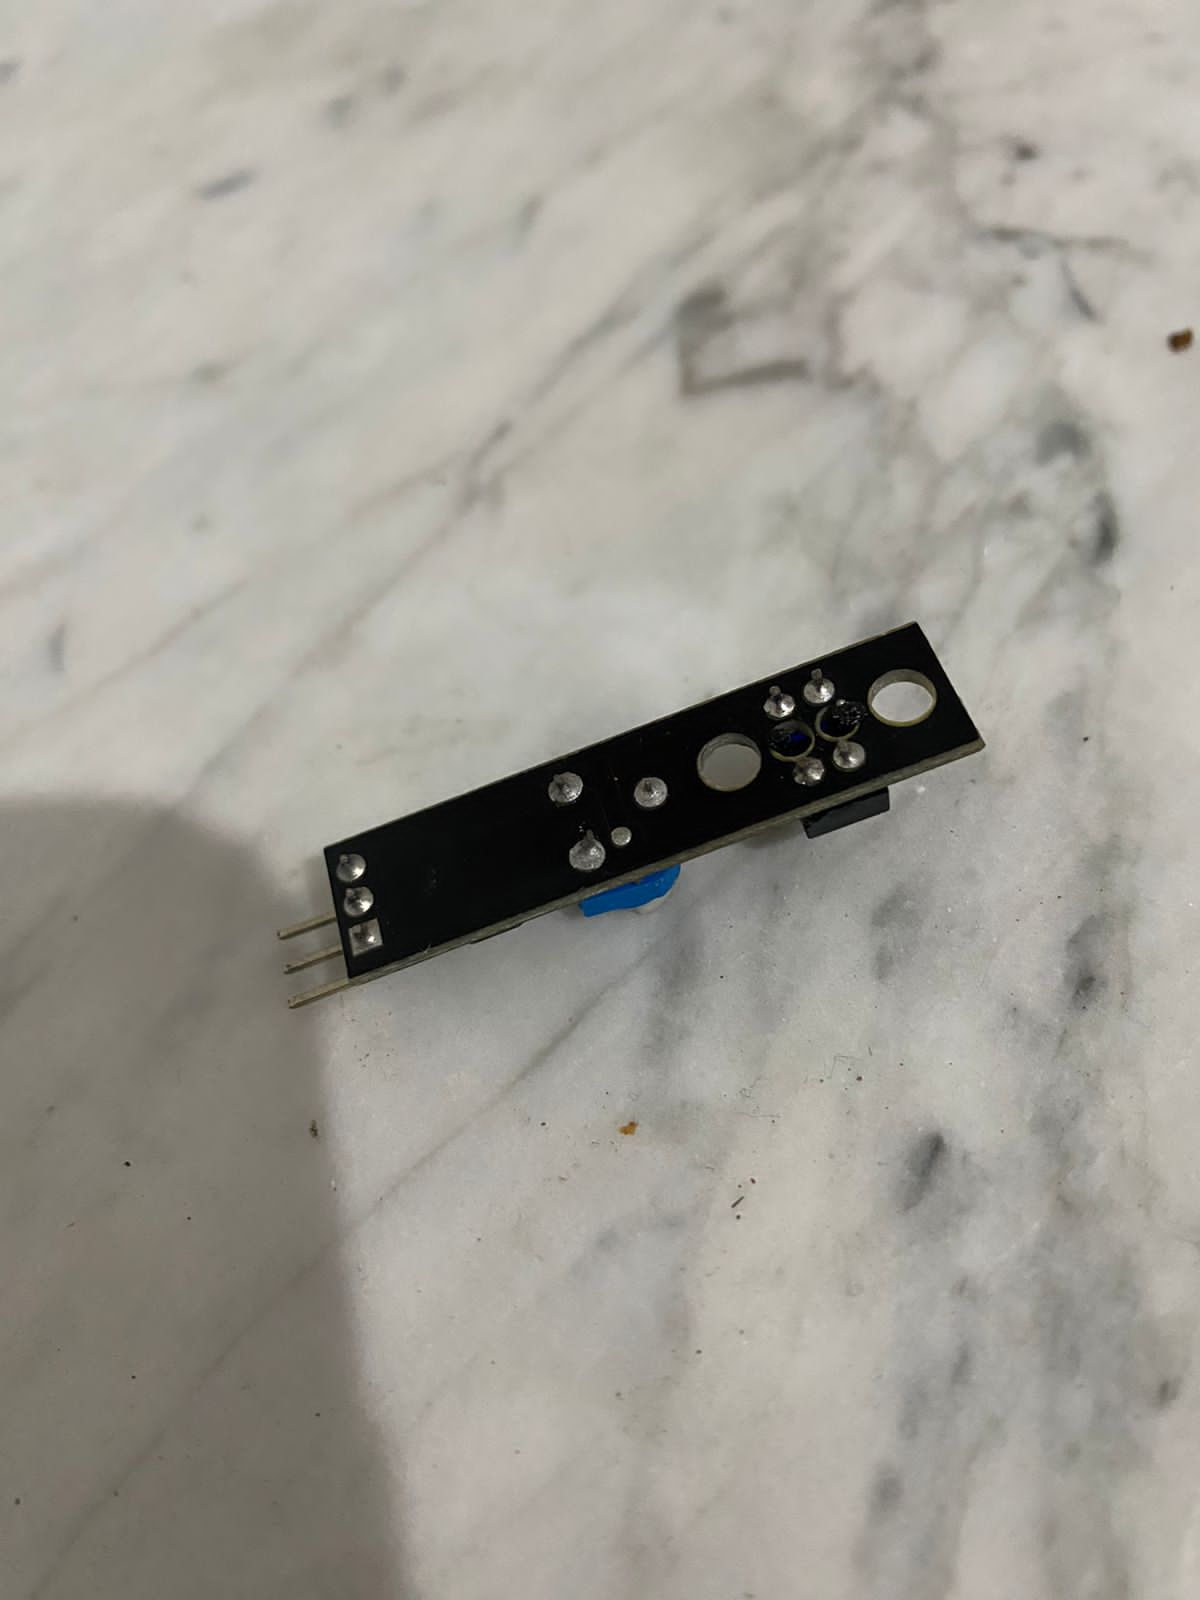ir-sensor: (277, 580, 988, 1020)
